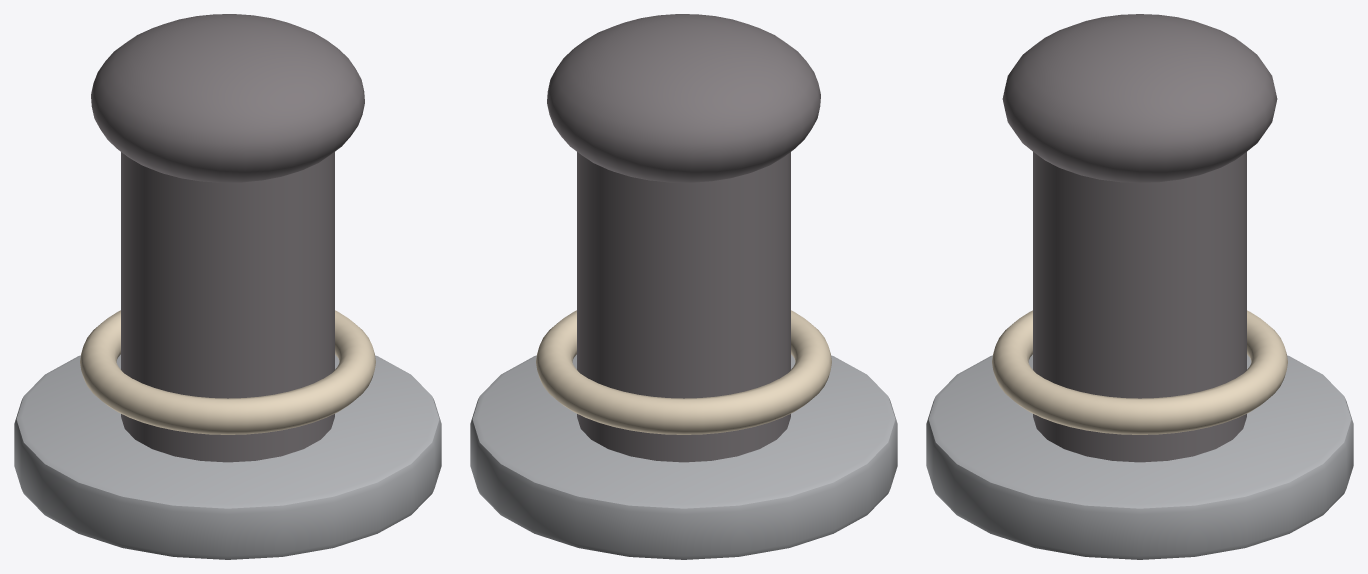
Rendered from cast-iron-mooring-bollard.glb.
The picture shows the model from 3 angles, left to right: view 1: azimuth 30°, elevation 25°; view 2: azimuth 150°, elevation 25°; view 3: azimuth 270°, elevation 25°; orthographic projection.
Visible parts, largest first — view 1: bollard_QuayStoneBase, bollard_IronColumn, bollard_MushroomCap, bollard_CoiledRope; view 2: bollard_QuayStoneBase, bollard_IronColumn, bollard_MushroomCap, bollard_CoiledRope; view 3: bollard_QuayStoneBase, bollard_IronColumn, bollard_MushroomCap, bollard_CoiledRope.
Boxes of the visible parts, x1=… form: bollard_QuayStoneBase: x1=14, y1=354, x2=441, y2=559; bollard_IronColumn: x1=121, y1=152, x2=334, y2=462; bollard_MushroomCap: x1=91, y1=14, x2=364, y2=182; bollard_CoiledRope: x1=80, y1=310, x2=375, y2=434; bollard_QuayStoneBase: x1=470, y1=354, x2=897, y2=559; bollard_IronColumn: x1=577, y1=152, x2=790, y2=462; bollard_MushroomCap: x1=547, y1=14, x2=820, y2=182; bollard_CoiledRope: x1=536, y1=310, x2=831, y2=434; bollard_QuayStoneBase: x1=926, y1=354, x2=1353, y2=559; bollard_IronColumn: x1=1033, y1=152, x2=1246, y2=462; bollard_MushroomCap: x1=1002, y1=14, x2=1277, y2=182; bollard_CoiledRope: x1=992, y1=310, x2=1287, y2=434.
Bounding box in the file's own units: 0.56 × 0.63 × 0.56.
